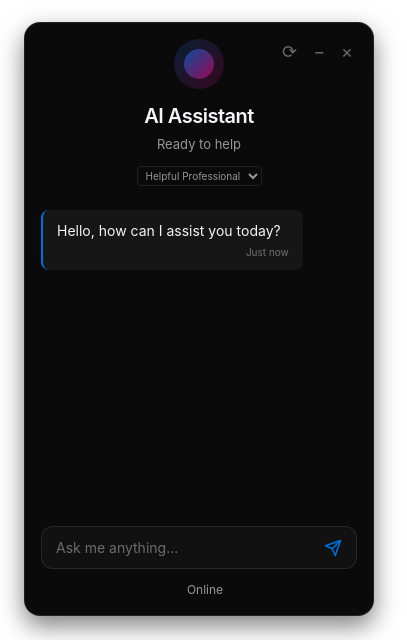
Test: MinimalAgentOverlay › sends a message and displays streaming response
Type "User message" into the field with placeholder "Ask me anything..." at {"x": 186, "y": 548}, box x1=56 y1=537 x2=316 y2=558
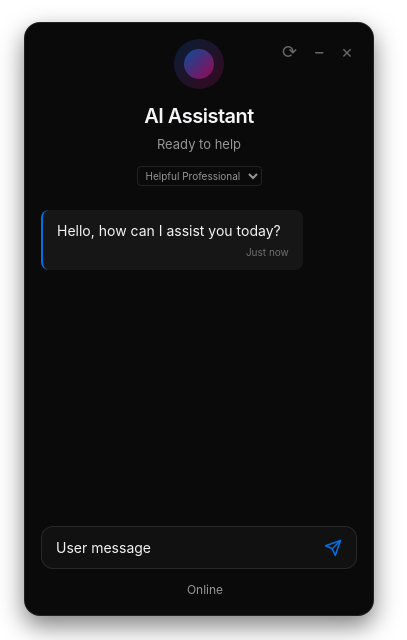
Click the button named "send message" at {"x": 329, "y": 548}, box x1=316 y1=538 x2=342 y2=556
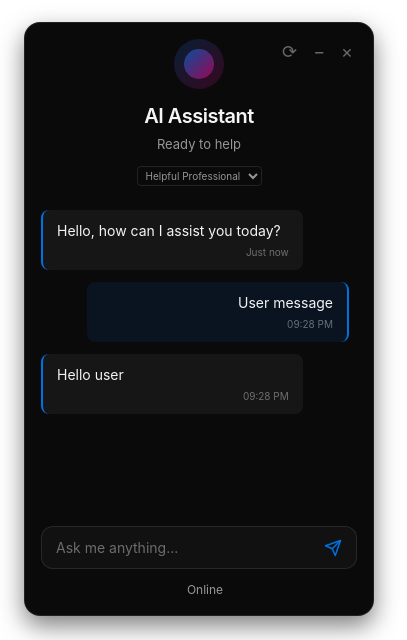
Check: the text "User message" is shown, box x1=238 y1=294 x2=333 y2=311
Check: the text "Hello user" is shown, box x1=57 y1=366 x2=124 y2=383
